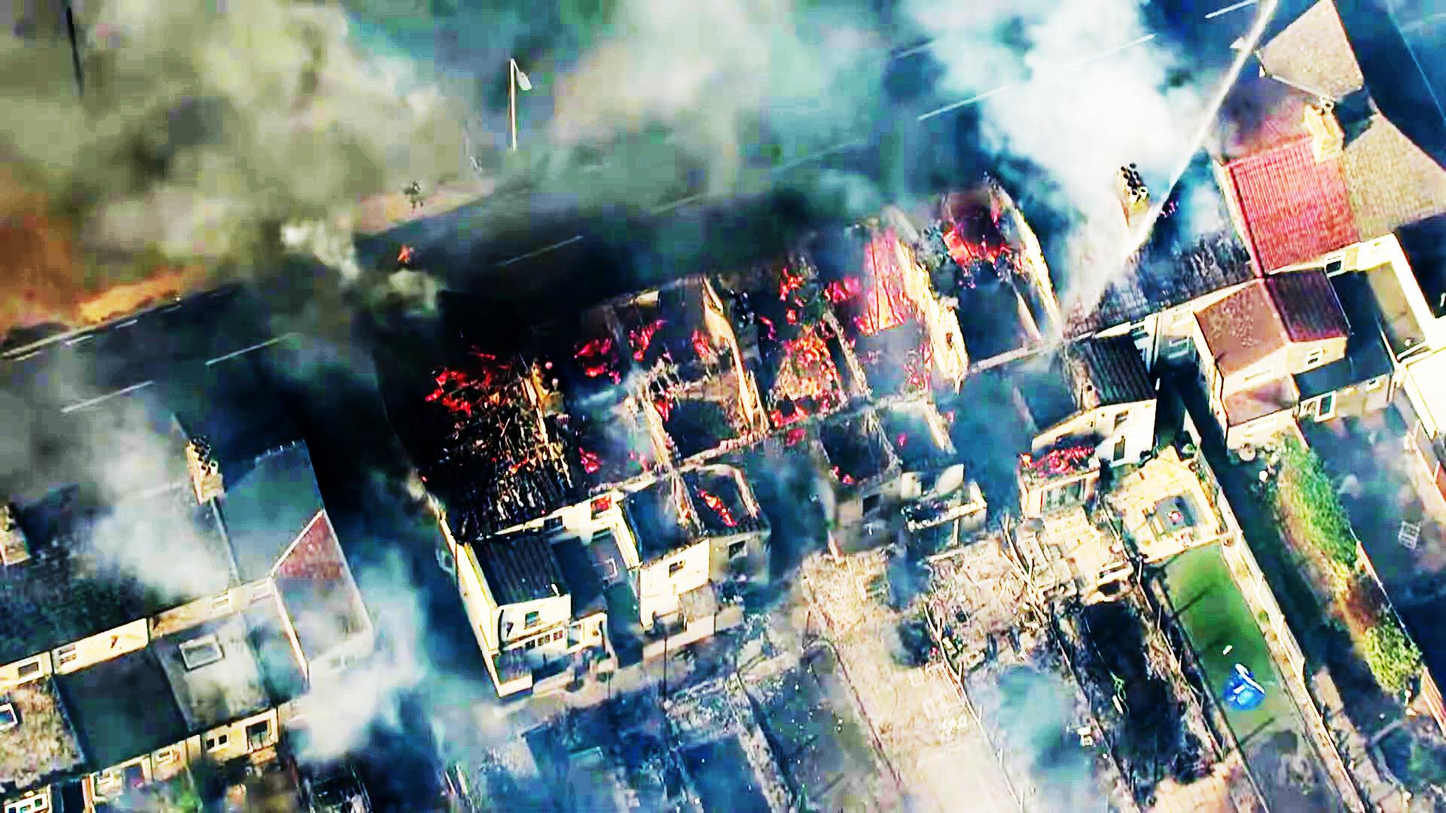fire: (828, 243, 893, 336)
smoke: (972, 10, 1156, 190)
